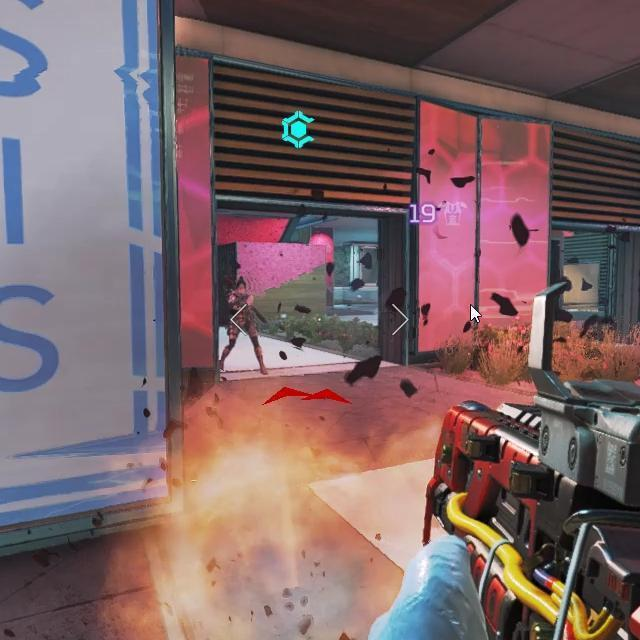avatar: (219, 276, 265, 374)
